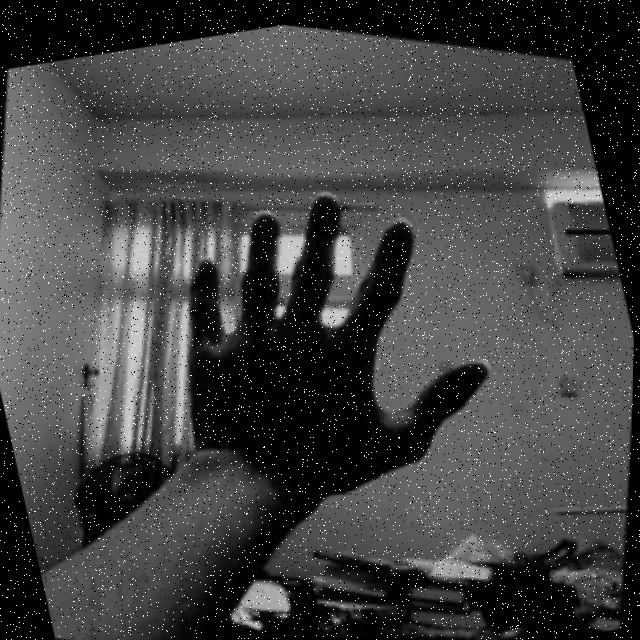hand: (133, 137, 523, 533)
